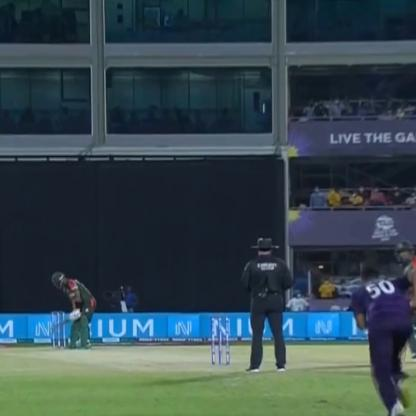pitch: (1, 335, 316, 379)
